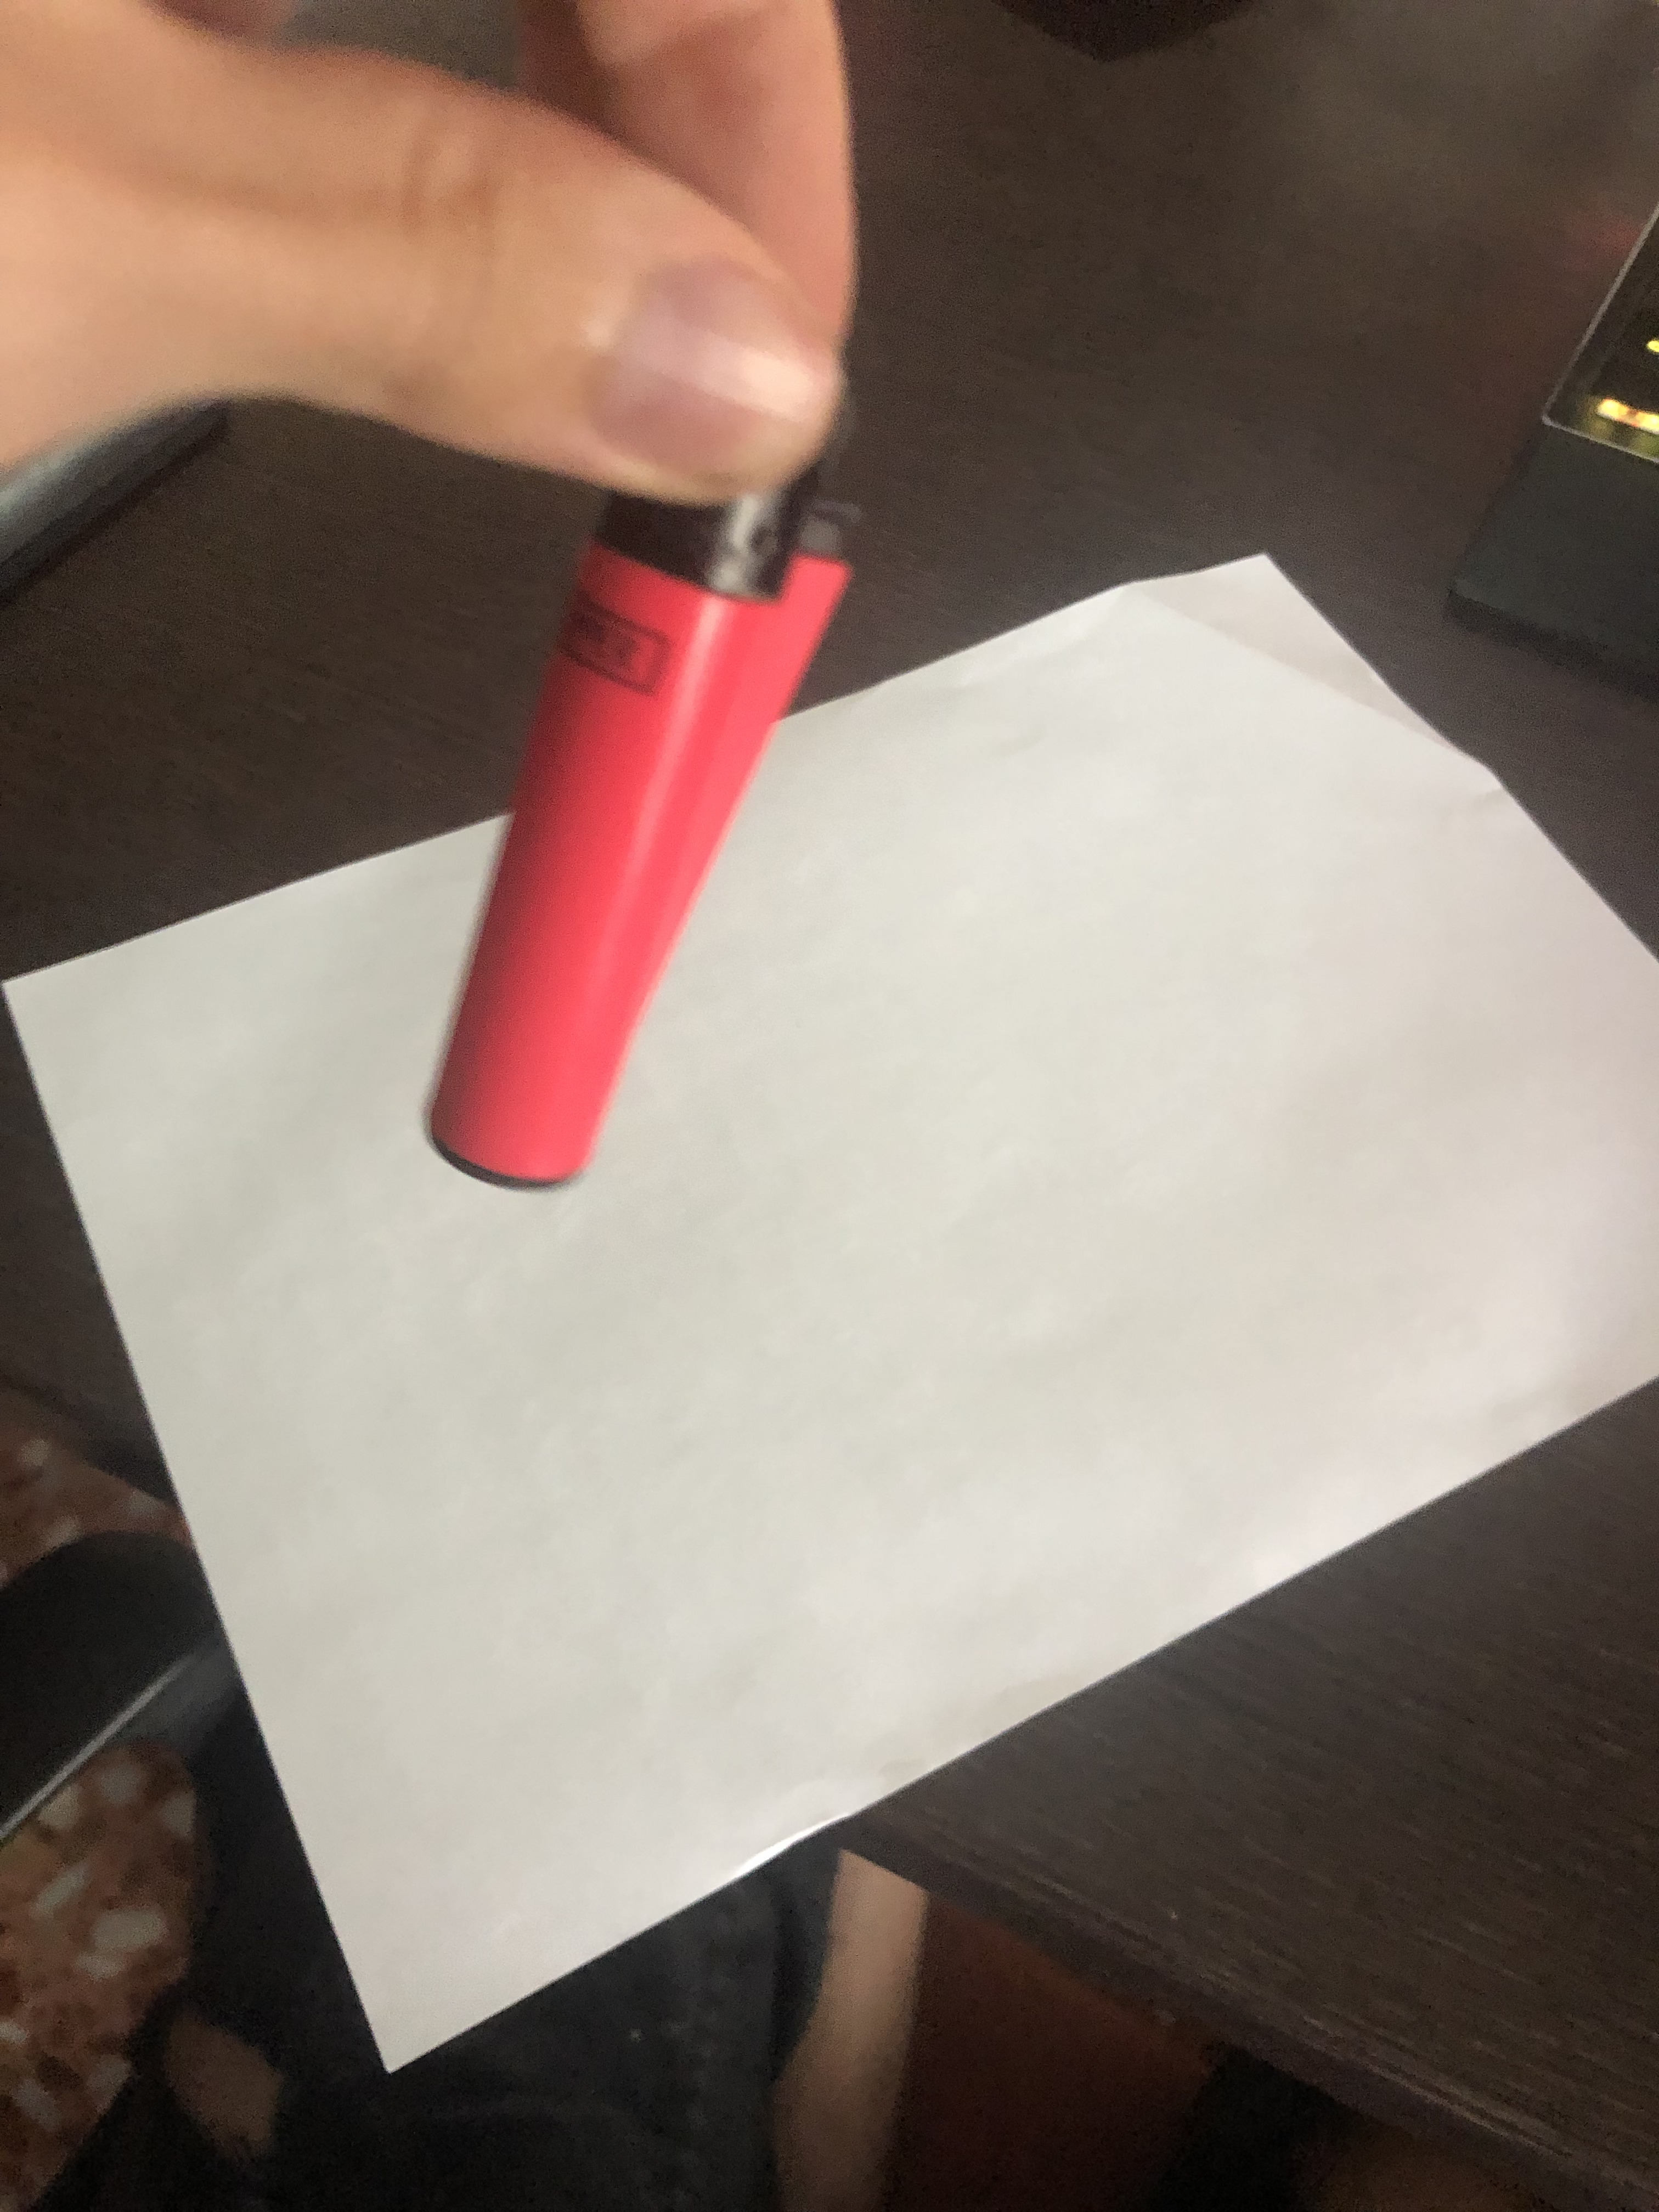Mechero: (411, 404, 875, 1202)
